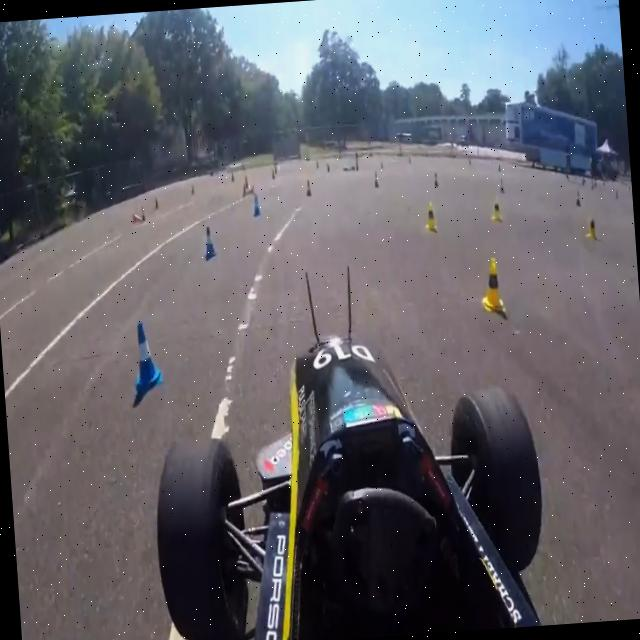blue_cone: (126, 316, 166, 391), (200, 222, 217, 258), (250, 192, 260, 216), (430, 170, 438, 189), (304, 177, 311, 198), (573, 190, 581, 208), (372, 170, 379, 190), (498, 177, 505, 194)
yellow_cone: (476, 250, 504, 318), (422, 198, 436, 232), (489, 194, 502, 224), (584, 213, 597, 243)
